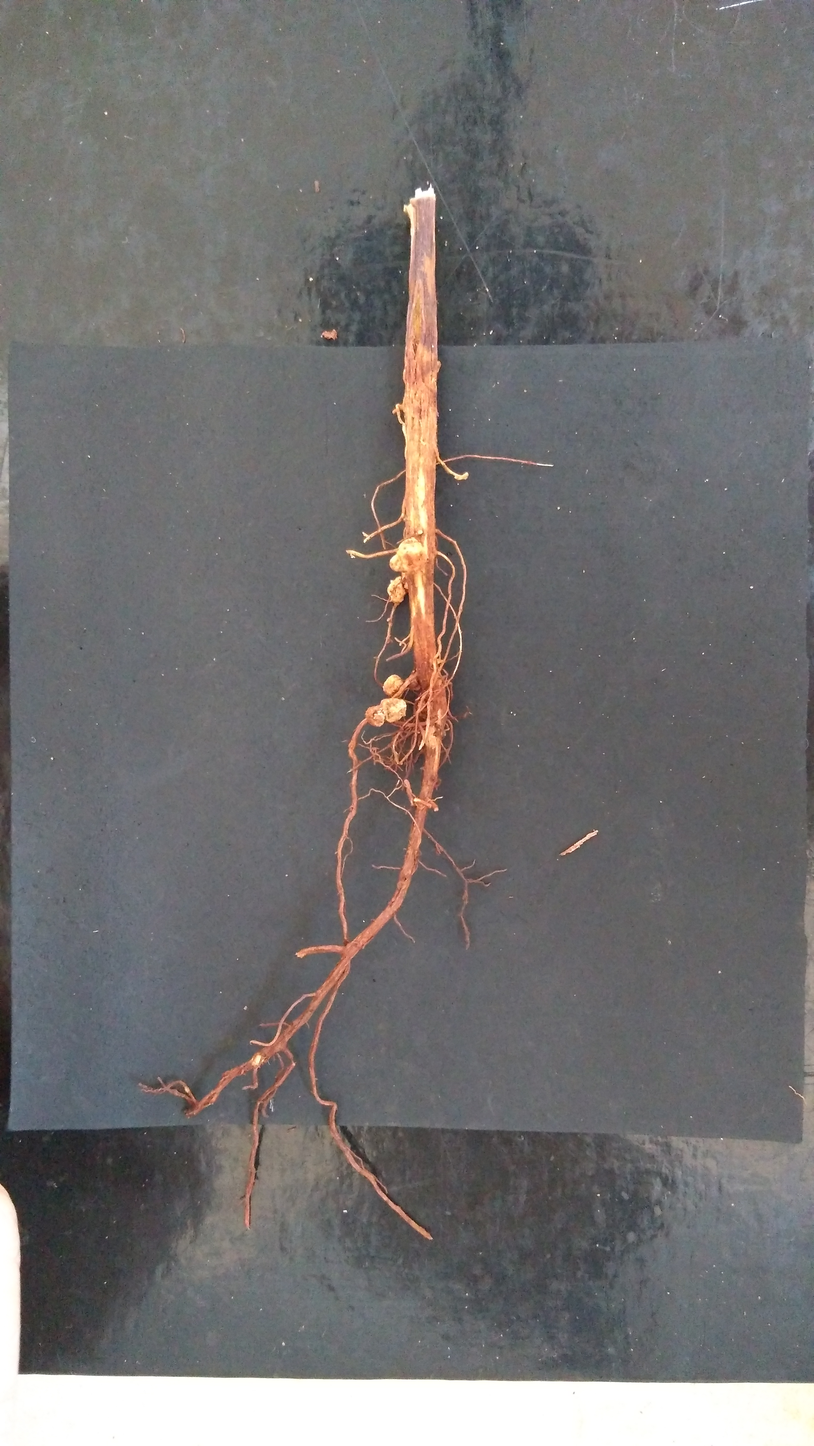nodule: (390, 537, 428, 572), (365, 698, 406, 727), (387, 576, 405, 602), (383, 674, 404, 695), (416, 691, 432, 718), (409, 680, 424, 696), (251, 1052, 265, 1066), (454, 472, 468, 480), (433, 657, 445, 665), (434, 678, 442, 686)
